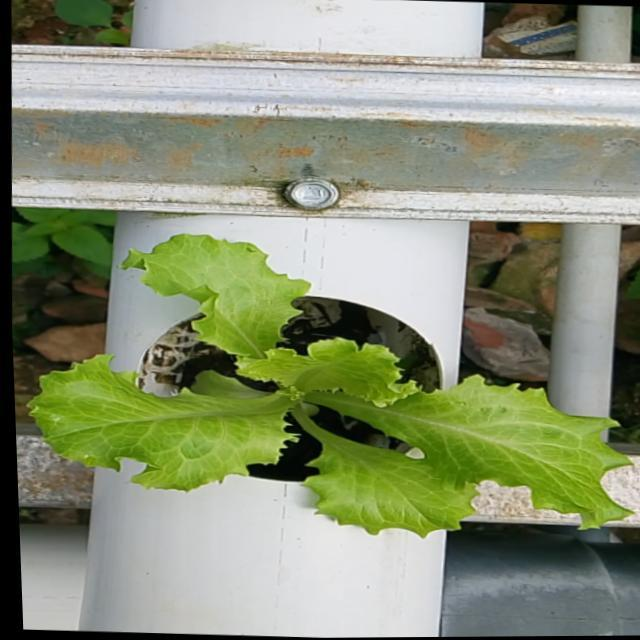Baby: (21, 237, 628, 540)
